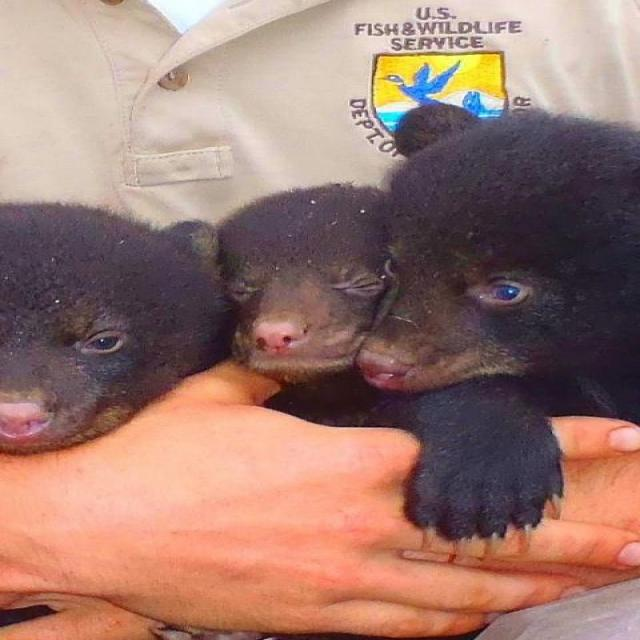Bear: (217, 185, 564, 542), (357, 104, 640, 428), (0, 203, 235, 457)
